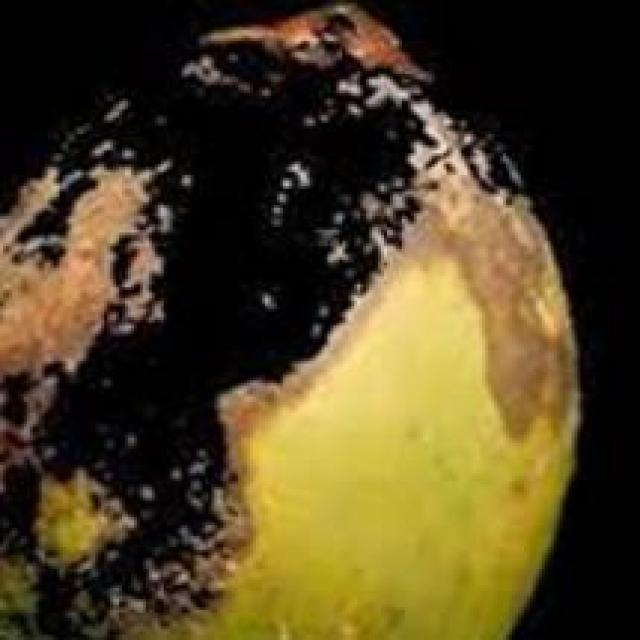damaged: (0, 0, 586, 637)
